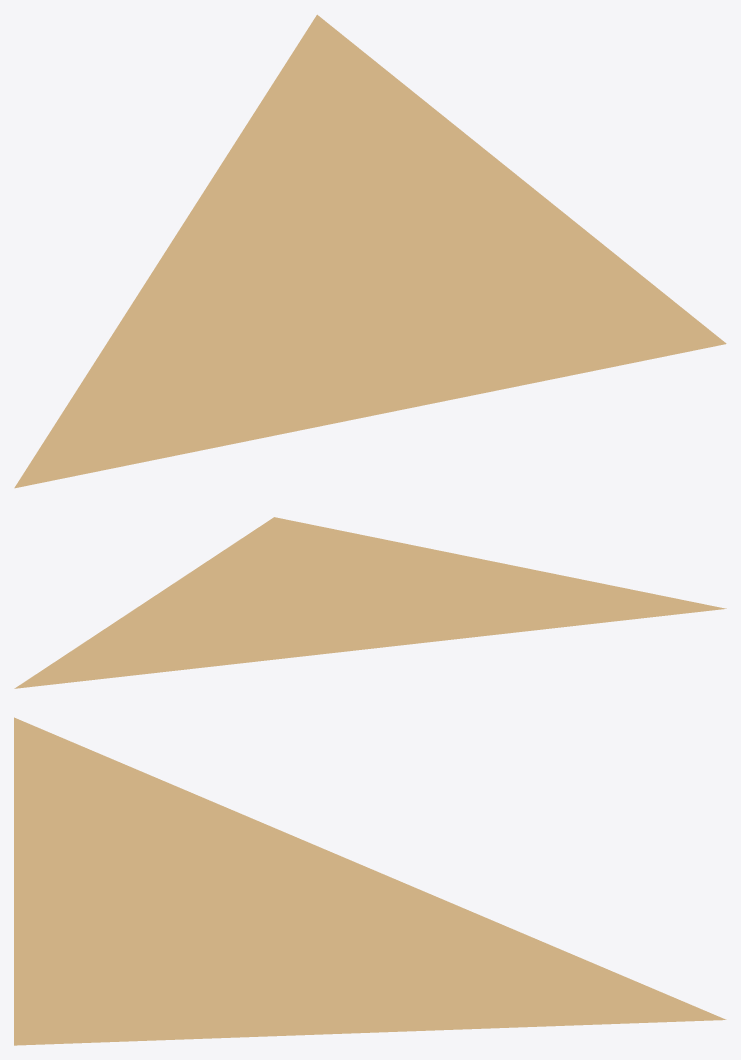
3 views of the same model, one above another, from view 1: azimuth 30°, elevation 25°; view 2: azimuth 150°, elevation 25°; view 3: azimuth 270°, elevation 25° (orthographic). The views are drawn at different scales.
Size of the model in its own units: 0.2187 by 0.00863 by 0.2178.
Materials: 1 (1 with a texture image).
